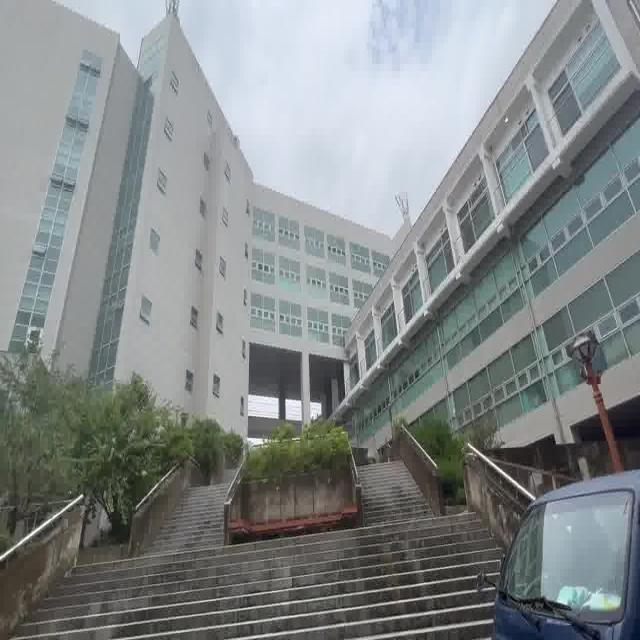building: (28, 34, 428, 405)
